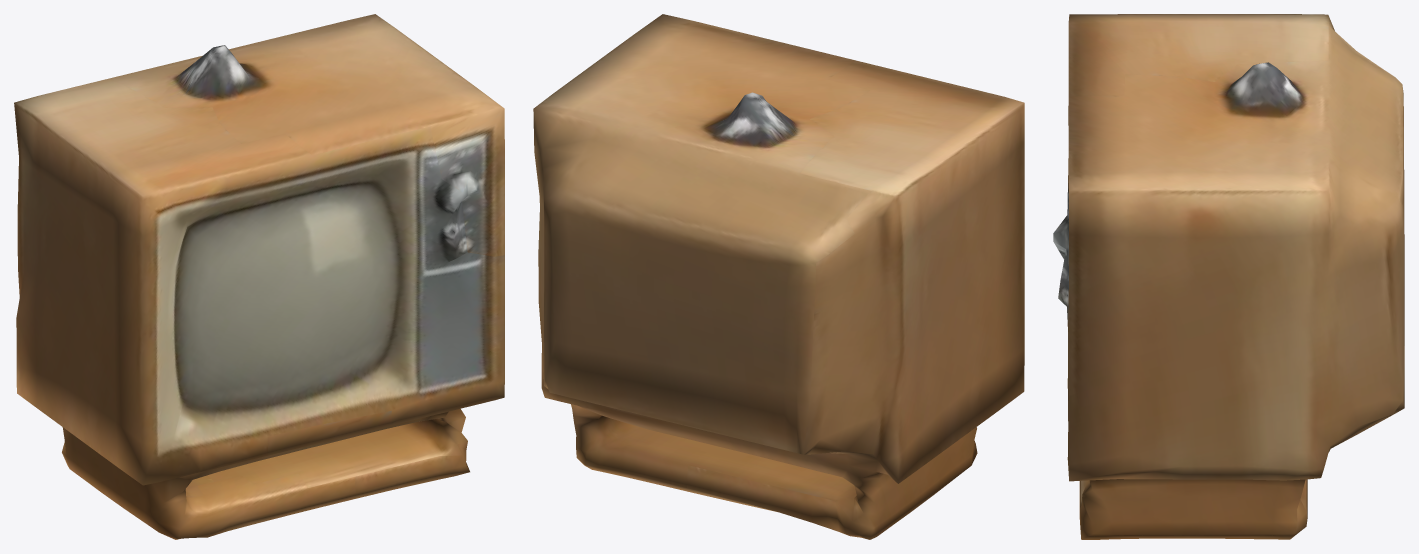
Rendered from crt_tv.glb.
The picture shows the model from 3 angles, left to right: view 1: azimuth 30°, elevation 25°; view 2: azimuth 150°, elevation 25°; view 3: azimuth 270°, elevation 25°; orthographic projection.
Parts seen in each view (by area): view 1: crt_tv; view 2: crt_tv; view 3: crt_tv.
Part boxes in pixels (bbox=[...]): crt_tv: bbox=[14, 14, 504, 539]; crt_tv: bbox=[533, 14, 1024, 539]; crt_tv: bbox=[1053, 14, 1404, 539].
Size of the model in its own units: 0.55 by 0.58 by 0.46.
Materials: 1 (1 with a texture image).
